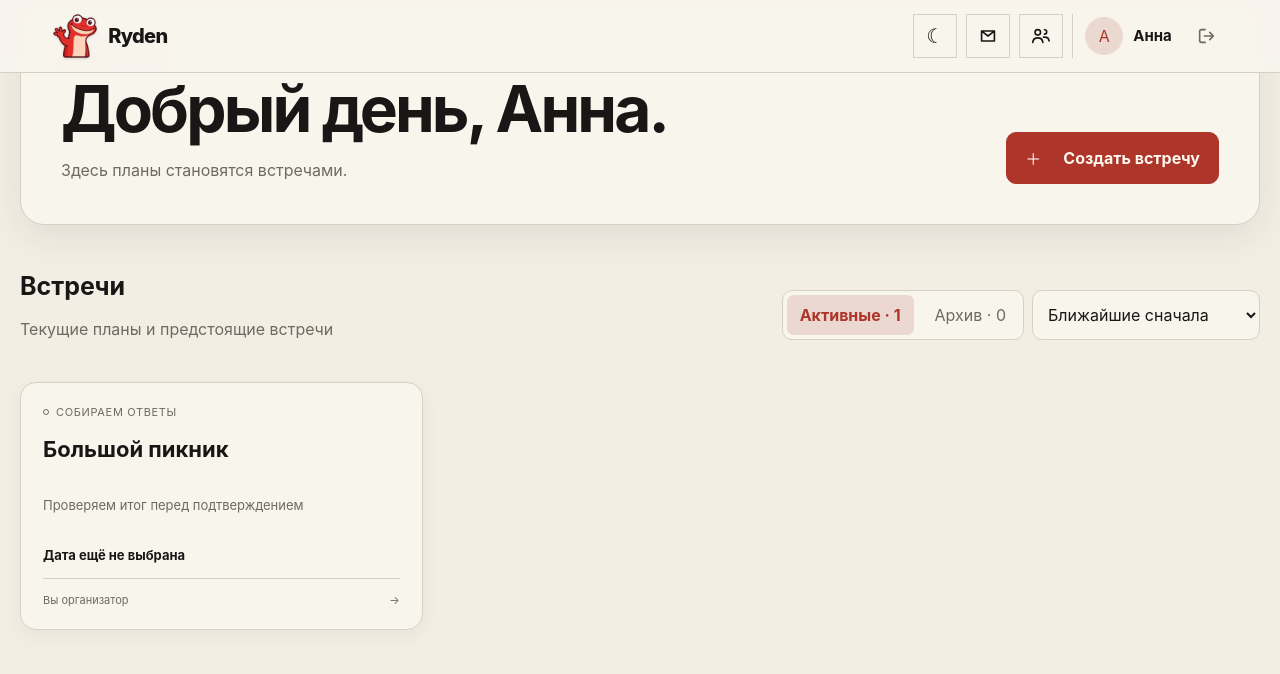
Test: App › shows decision evidence and requires an explicit review before scheduling
(page scrolled)
Step 1. Click the button "Большой пикник" → click(221, 506), box [20,382,423,630]
(page scrolled)
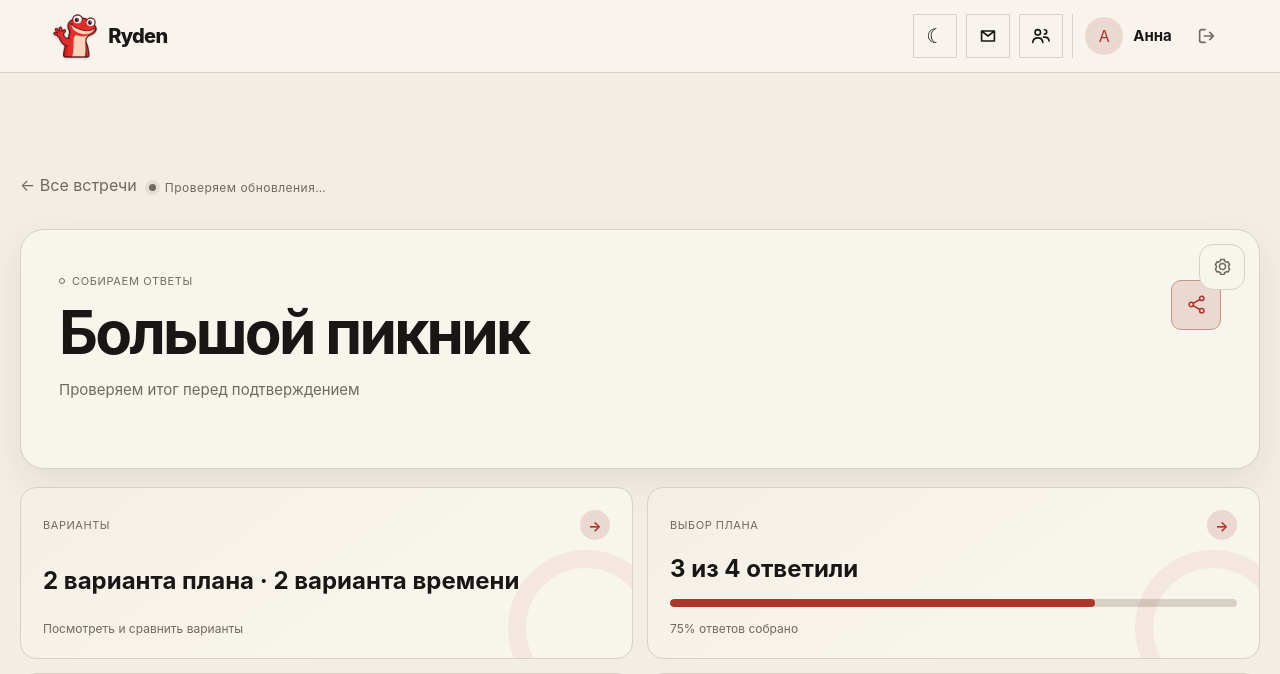
Step 2. Click the button "Выбор плана → 3 из 4 ответили 75% ответов собрано" → click(714, 525), box [647,487,1260,659]
(page scrolled)
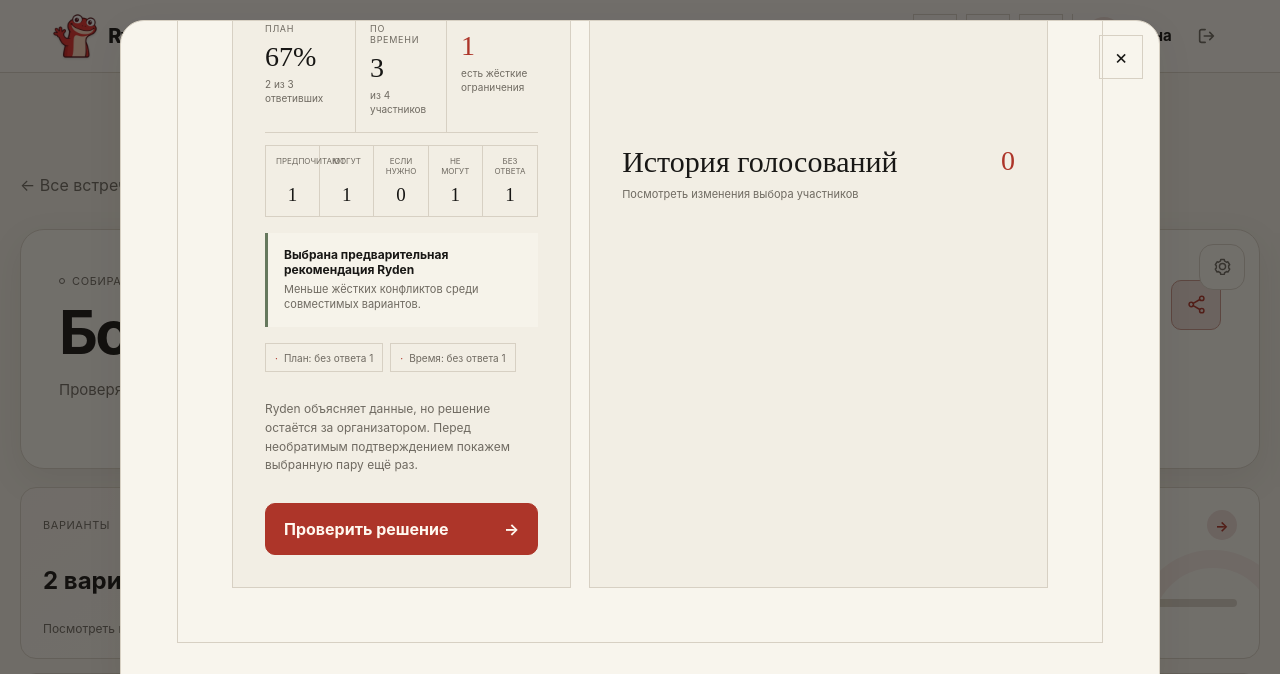
Result: the text "67%" is shown at [265,40,316,72]
Result: the text "3" is shown at [370,52,384,82]
Result: the text "1" below "Не смогут" is shown at [461,30,475,60]
Step 3. Click the button "Проверить решение →" → click(402, 529), box [265,503,538,555]
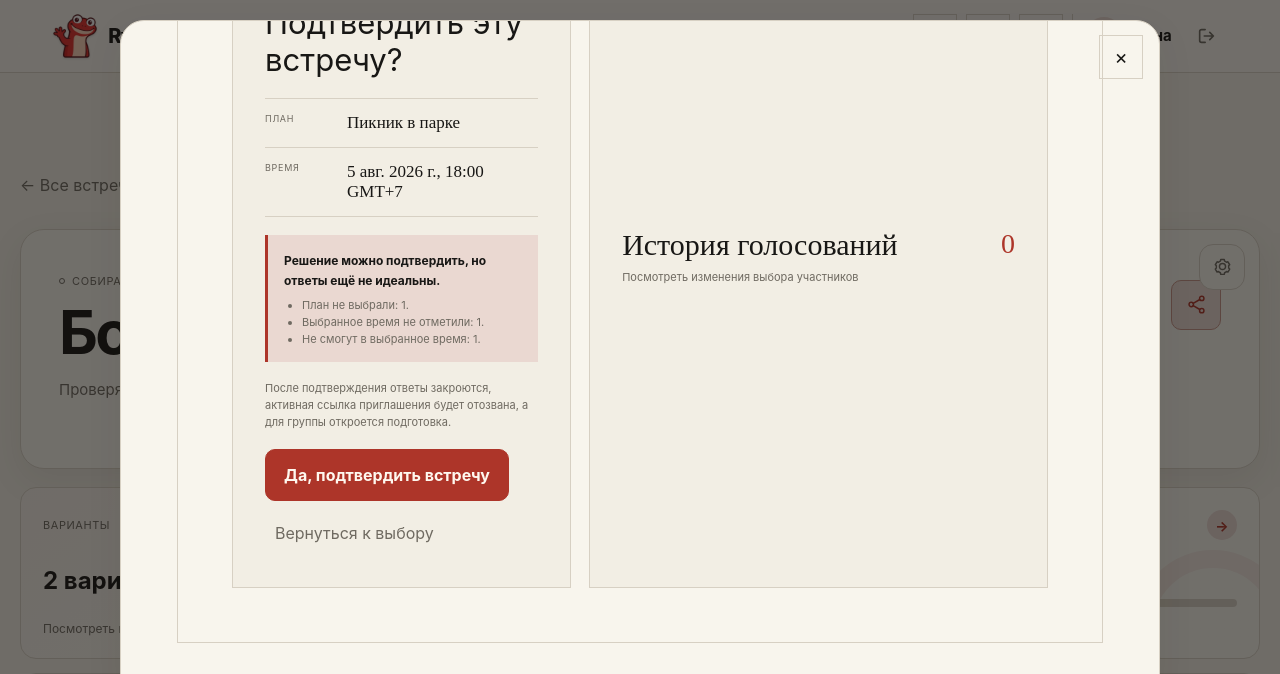
Result: the heading "Подтвердить эту встречу?" is shown at [265,20,538,78]
Result: the list item "План не выбрали: 1." is shown at [302,298,409,312]
Result: the list item "Выбранное время не отметили: 1." is shown at [302,314,484,328]
Step 4. Click the button "Вернуться к выбору" → click(354, 533), box [265,511,444,555]
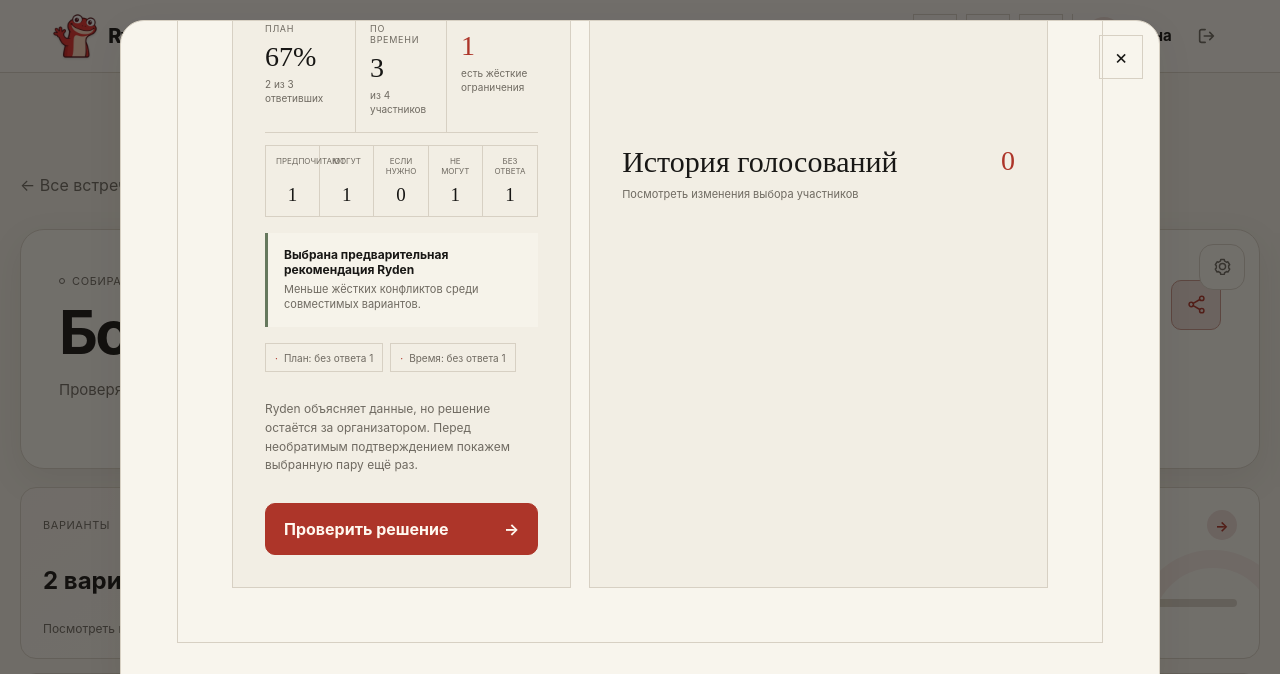
Result: the button "Проверить решение →" is shown
Step 5. Click the button "Проверить решение →" → click(402, 529), box [265,503,538,555]
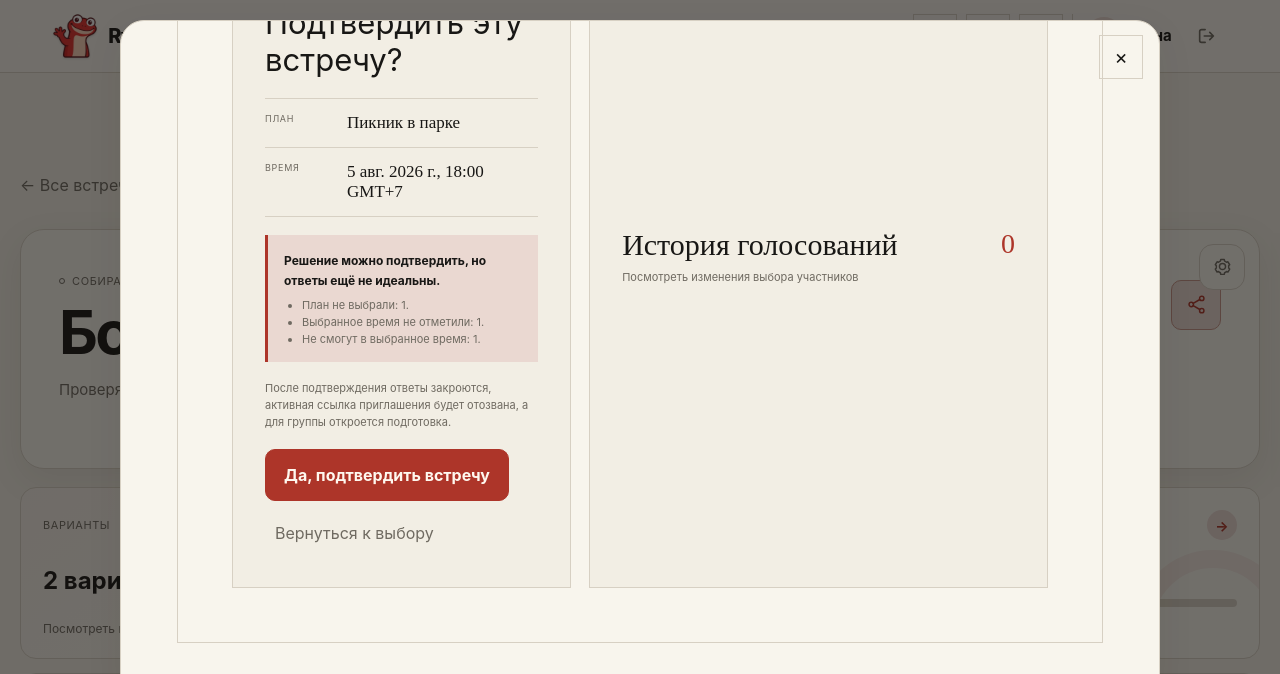
Step 6. Click the button "Да, подтвердить встречу" → click(387, 475), box [265,449,509,501]
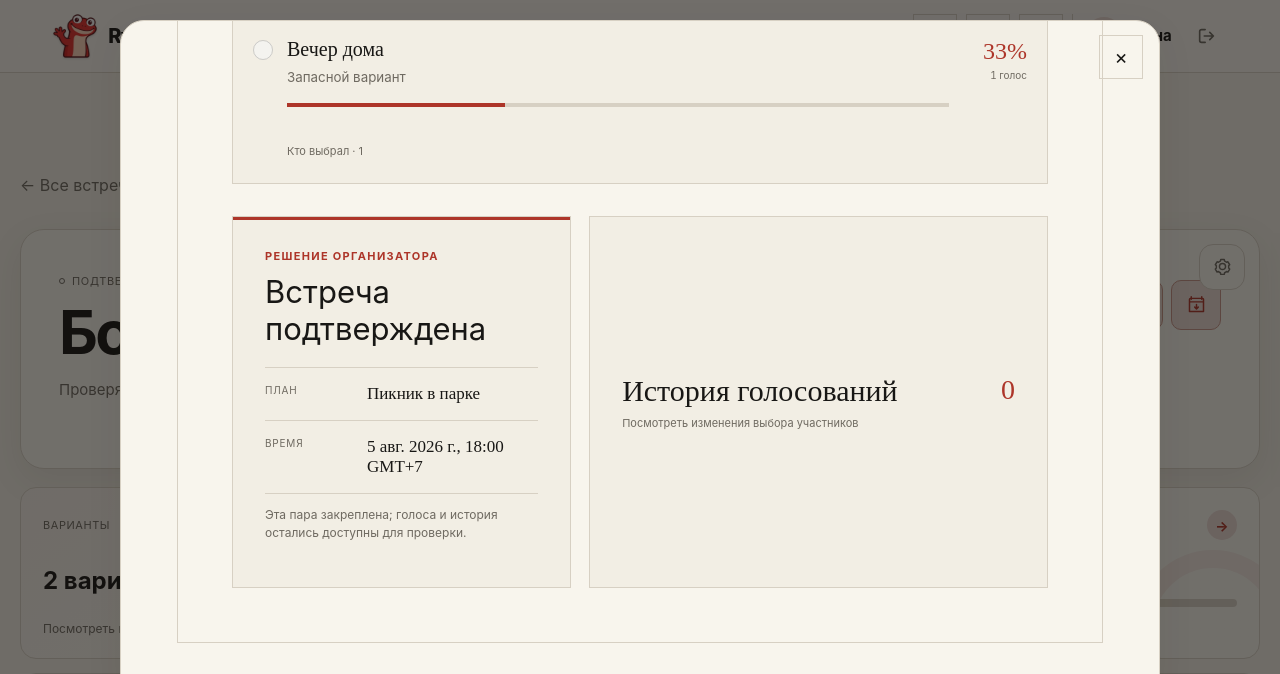
Result: the heading "Встреча подтверждена" is shown at [265,272,486,346]
